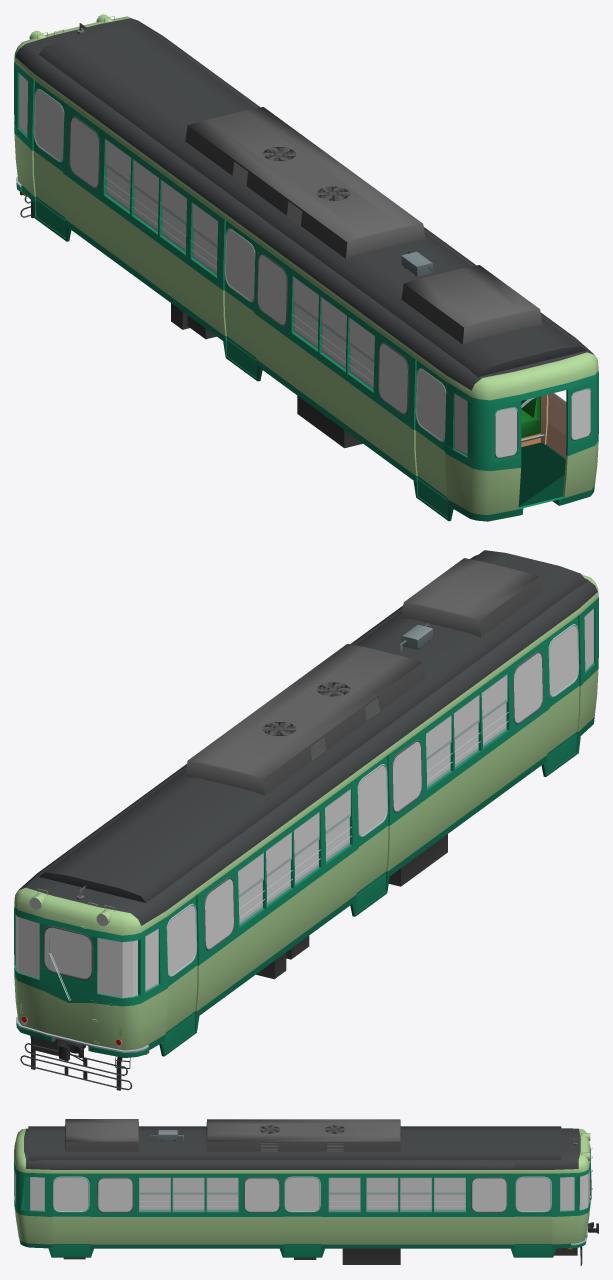
3 renders of one model, top to bottom at view 1: azimuth 30°, elevation 25°; view 2: azimuth 150°, elevation 25°; view 3: azimuth 270°, elevation 25°, orthographic. The views are drawn at different scales.
Parts seen in each view (by area): view 1: obj11; view 2: obj11; view 3: obj11.
Boxes of the visible parts, x1,y1,x2,y2 form: obj11: (14,14,598,521); obj11: (14,550,598,1090); obj11: (14,1119,598,1265).
Size of the model in its own units: 5.85 by 8.25 by 35.8.
Materials: 16 (12 with a texture image).
